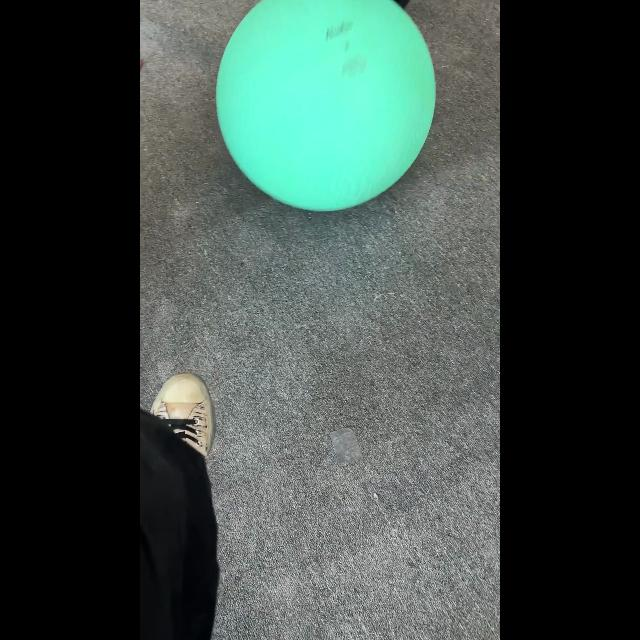ALGAE: (214, 0, 436, 212)
